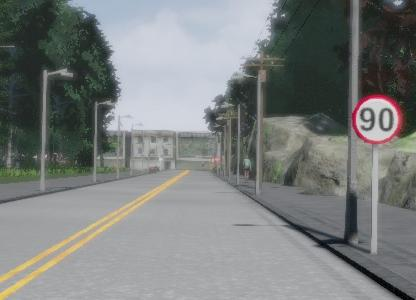Speed_90: (348, 92, 404, 148)
